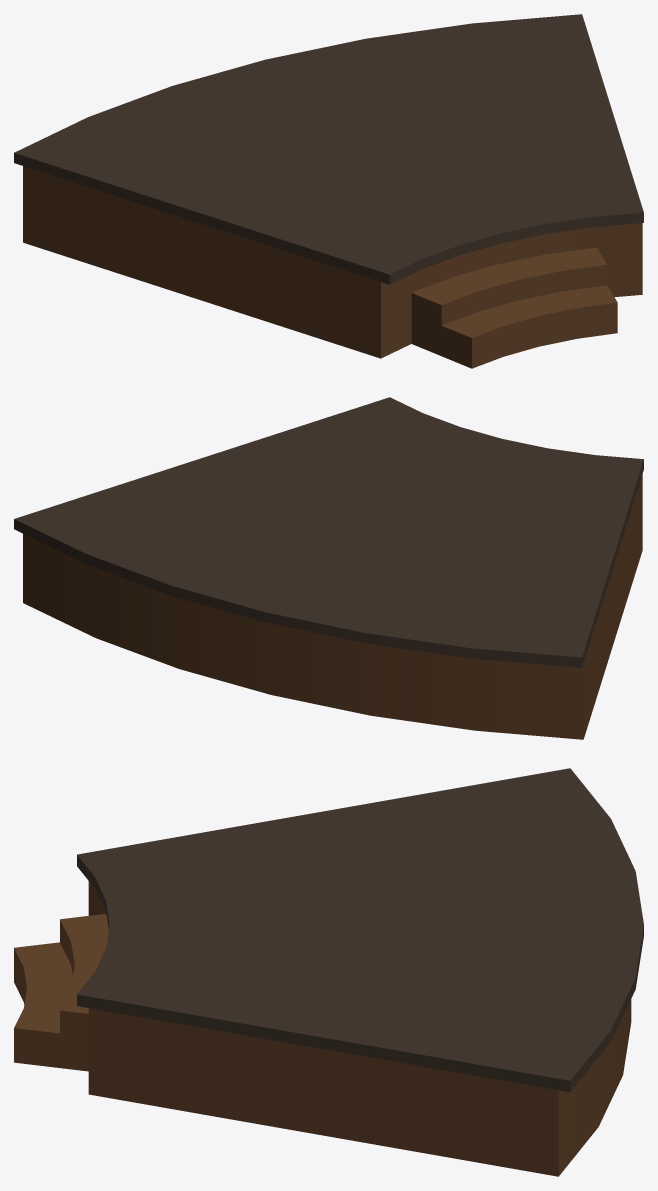
File: curve_stage.glb
The picture shows the model from 3 angles, top to bottom: view 1: azimuth 30°, elevation 25°; view 2: azimuth 150°, elevation 25°; view 3: azimuth 270°, elevation 25°; orthographic projection. The views are drawn at different scales.
Visible parts, largest first — view 1: sw5e_int_curve_stage; view 2: sw5e_int_curve_stage; view 3: sw5e_int_curve_stage.
Part boxes in pixels (x1,y1,x2,y2): sw5e_int_curve_stage: (14, 14, 643, 368); sw5e_int_curve_stage: (14, 397, 643, 739); sw5e_int_curve_stage: (14, 768, 643, 1176).
Size of the model in its own units: 2.33 by 0.34 by 1.98.
